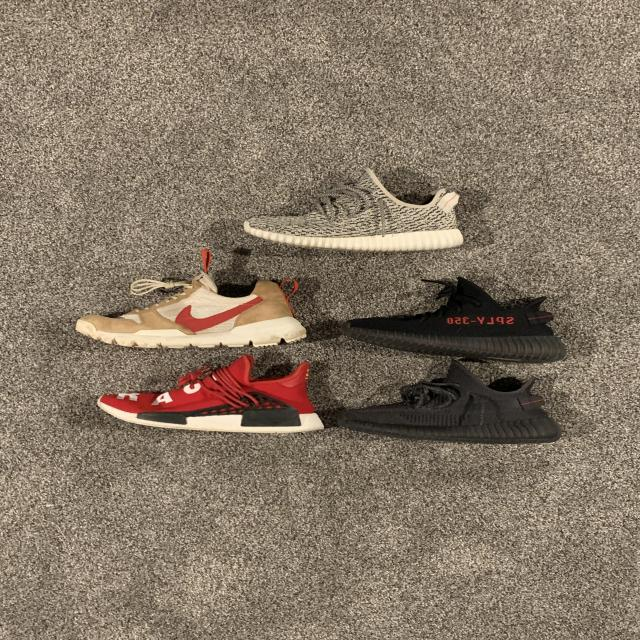shoes: (52, 241, 328, 356), (310, 268, 594, 370), (233, 162, 498, 260), (324, 356, 589, 454), (86, 346, 330, 441)
